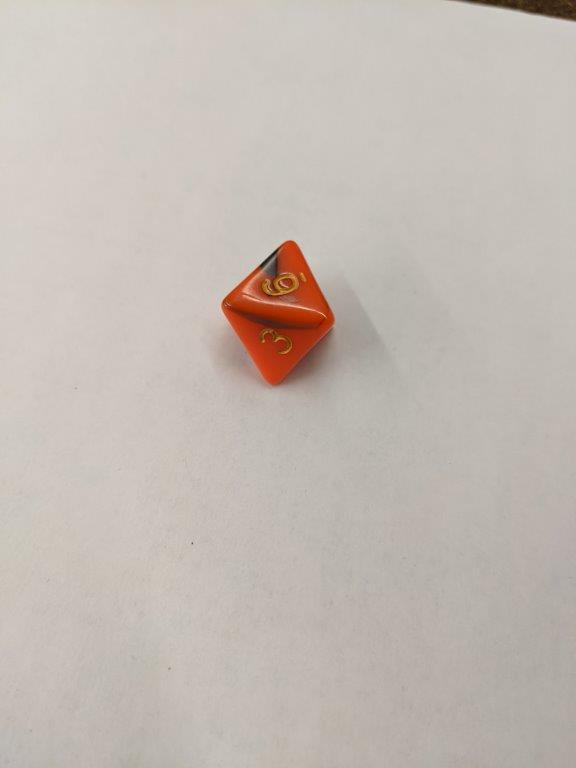d8-6: (219, 237, 339, 388)
